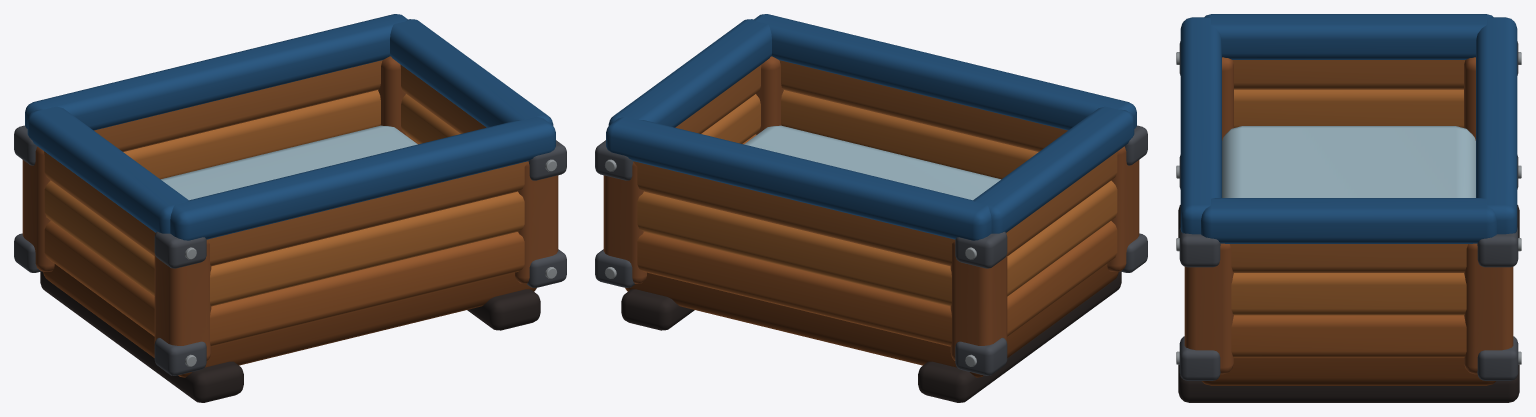
File: fish_crate_empty.glb
3 views of the same model, side by side, from view 1: azimuth 30°, elevation 25°; view 2: azimuth 150°, elevation 25°; view 3: azimuth 270°, elevation 25° (orthographic). The views are drawn at different scales.
Parts seen in each view (by area): view 1: fish_crate_empty; view 2: fish_crate_empty; view 3: fish_crate_empty.
Boxes of the visible parts, box(x1,y1,x2,y2) form: fish_crate_empty: box(14, 14, 566, 402); fish_crate_empty: box(595, 14, 1147, 402); fish_crate_empty: box(1176, 14, 1521, 402).
Size of the model in its own units: 0.955 by 0.445 by 0.678.
